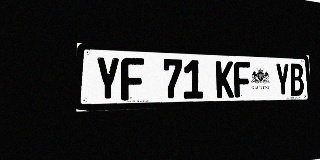1: (183, 60, 203, 99)
7: (162, 59, 183, 100)
B: (289, 63, 304, 96)
F: (121, 57, 144, 101), (234, 61, 251, 98)
K: (216, 61, 234, 98)
Y: (95, 56, 120, 101), (275, 63, 290, 96)
